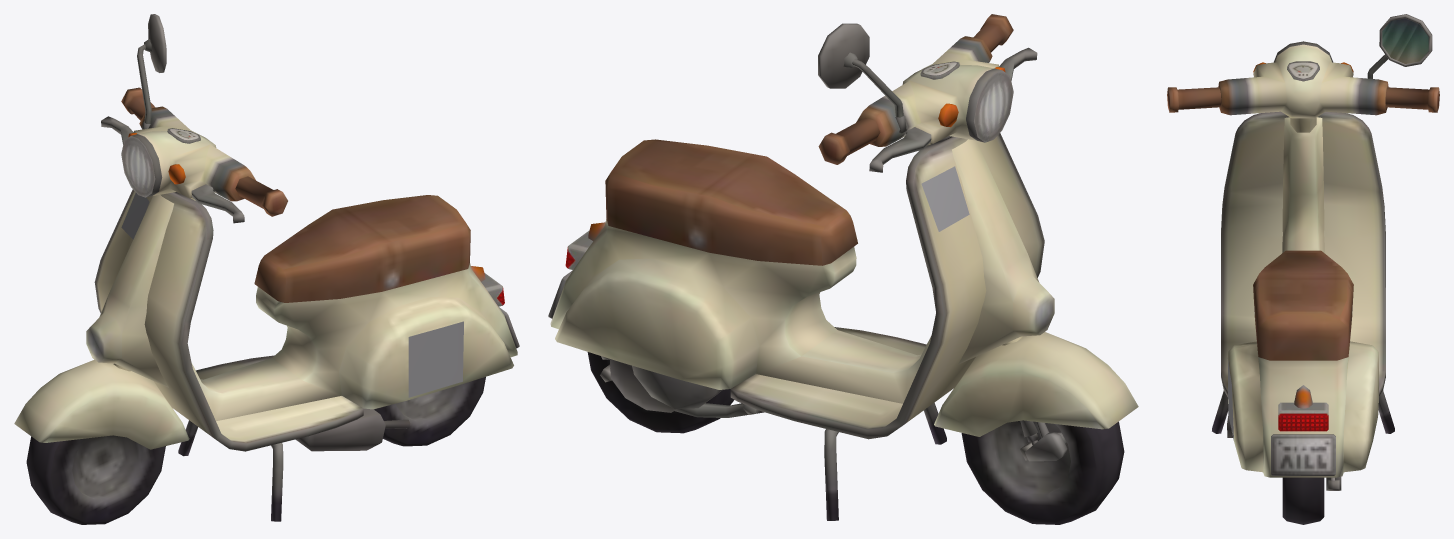
The picture shows the model from 3 angles, left to right: view 1: azimuth 30°, elevation 25°; view 2: azimuth 150°, elevation 25°; view 3: azimuth 270°, elevation 25°; orthographic projection. The views are drawn at different scales.
Size of the model in its own units: 16.4 by 14.37 by 8.68.
4 materials, 4 textured.
